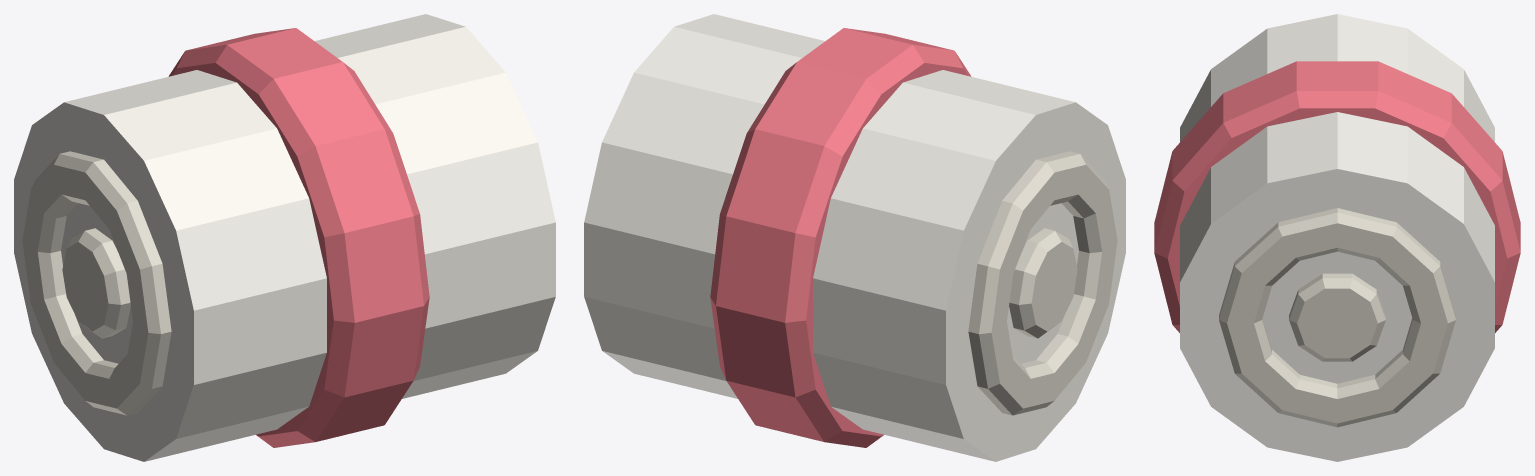
Rendered from game-ui-icon-library-banknote-roll-e8752089__18973.glb.
3 renders of one model, left to right at view 1: azimuth 30°, elevation 25°; view 2: azimuth 150°, elevation 25°; view 3: azimuth 270°, elevation 25°, orthographic. The views are drawn at different scales.
Parts seen in each view (by area): view 1: banknote-roll; view 2: banknote-roll; view 3: banknote-roll.
Boxes of the visible parts, box(x1,y1,x2,y2) form: banknote-roll: box(14, 14, 555, 461); banknote-roll: box(584, 14, 1125, 461); banknote-roll: box(1154, 14, 1520, 461).
Size of the model in its own units: 0.8824 by 0.78 by 0.8.
